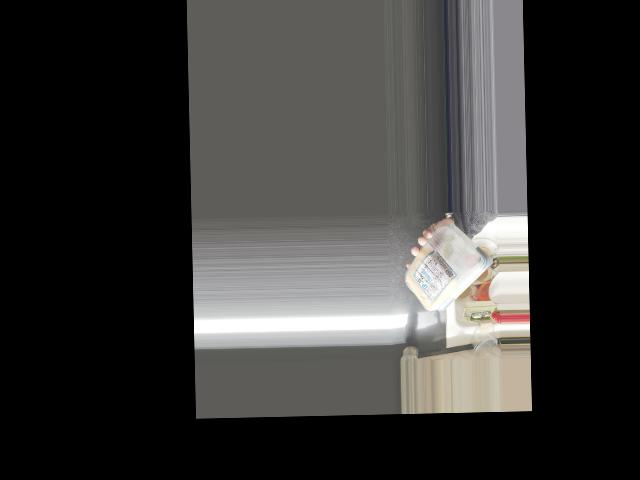cheese: (409, 223, 481, 312)
